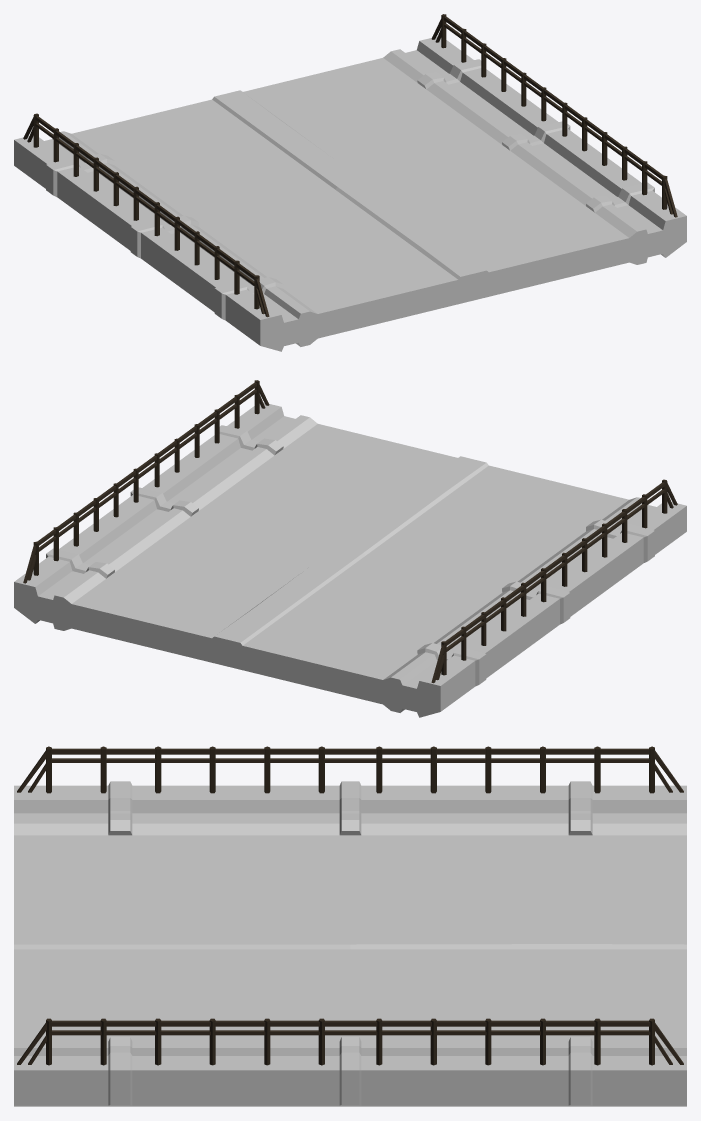
Rendered from SM_Env_Port_Drydock_Bridge_01.fbx.
The picture shows the model from 3 angles, top to bottom: view 1: azimuth 30°, elevation 25°; view 2: azimuth 150°, elevation 25°; view 3: azimuth 270°, elevation 25°; orthographic projection. The views are drawn at different scales.
Parts seen in each view (by area): view 1: SM_Env_Port_Drydock_Bridge_01; view 2: SM_Env_Port_Drydock_Bridge_01; view 3: SM_Env_Port_Drydock_Bridge_01.
Boxes of the visible parts, <box> form: SM_Env_Port_Drydock_Bridge_01: <box>14,14,686,351</box>; SM_Env_Port_Drydock_Bridge_01: <box>14,380,686,717</box>; SM_Env_Port_Drydock_Bridge_01: <box>14,746,686,1106</box>.
Bounding box in the file's own units: 1015 × 155 × 1000.
